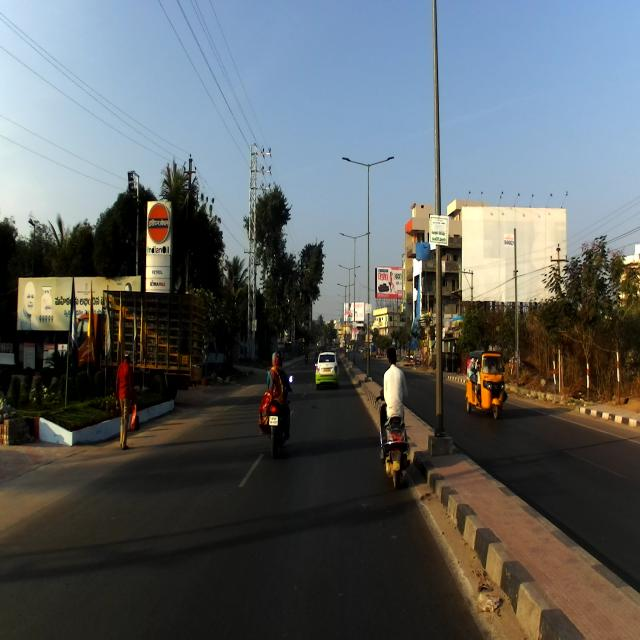motorcycle ahead at: (374, 412, 411, 486), (258, 394, 291, 450)
person ahead at: (108, 348, 140, 458)
